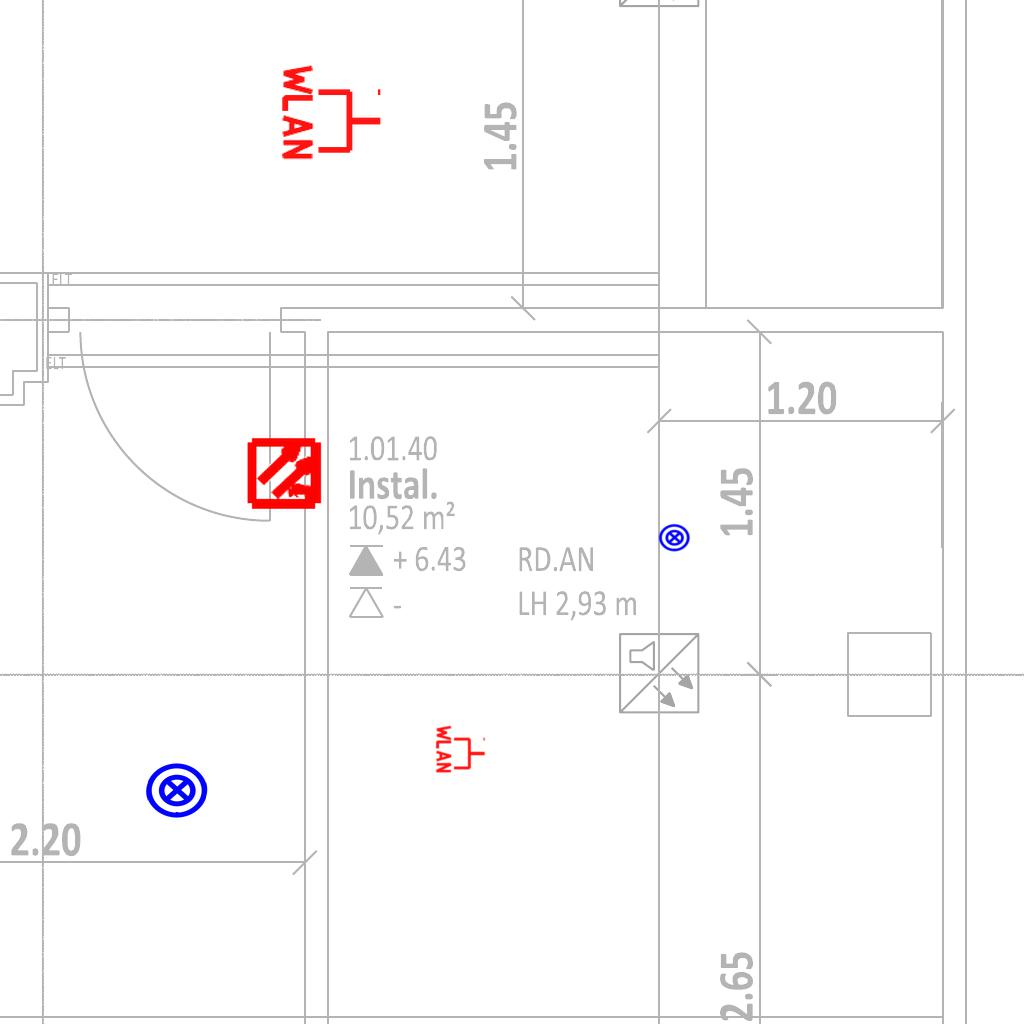OT_Multisensormelder_(Kombination_RMO_WMD): (230, 417, 343, 530)
Taster_beleuchtet: (143, 756, 211, 824), (658, 521, 691, 554)
WLAN: (280, 60, 385, 164), (435, 723, 487, 775)
